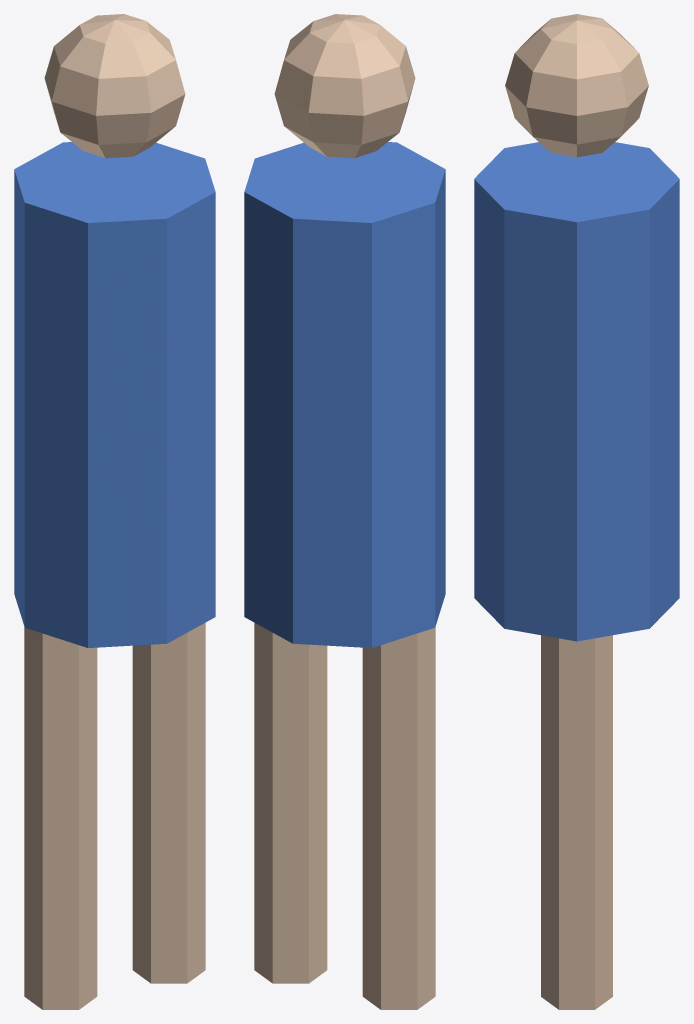
File: home.glb
The picture shows the model from 3 angles, left to right: view 1: azimuth 30°, elevation 25°; view 2: azimuth 150°, elevation 25°; view 3: azimuth 270°, elevation 25°; orthographic projection.
Visible parts, largest first — view 1: Cylinder, Cylinder.001, Cylinder.002, Sphere; view 2: Cylinder, Cylinder.001, Cylinder.002, Sphere; view 3: Cylinder, Cylinder.002, Sphere.
Part boxes in pixels (x1=…): Cylinder: x1=14, y1=142, x2=215, y2=647; Cylinder.001: x1=24, y1=627, x2=97, y2=1009; Cylinder.002: x1=132, y1=622, x2=205, y2=983; Sphere: x1=44, y1=14, x2=185, y2=158; Cylinder: x1=244, y1=142, x2=445, y2=647; Cylinder.001: x1=362, y1=627, x2=435, y2=1009; Cylinder.002: x1=254, y1=622, x2=327, y2=983; Sphere: x1=274, y1=14, x2=415, y2=158; Cylinder: x1=474, y1=142, x2=679, y2=641; Cylinder.002: x1=541, y1=635, x2=612, y2=1009; Sphere: x1=505, y1=14, x2=648, y2=157.
Size of the model in its own units: 0.4 by 2.04 by 0.4.
